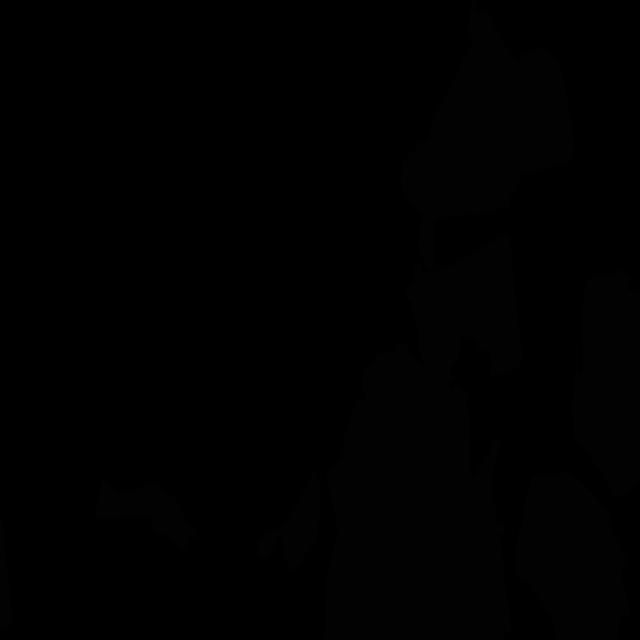cardboard: (324, 325, 511, 640), (400, 0, 530, 270), (514, 472, 630, 640), (406, 234, 523, 384), (572, 268, 640, 496), (94, 477, 198, 551), (519, 47, 576, 173), (257, 471, 321, 572), (0, 518, 12, 630)
